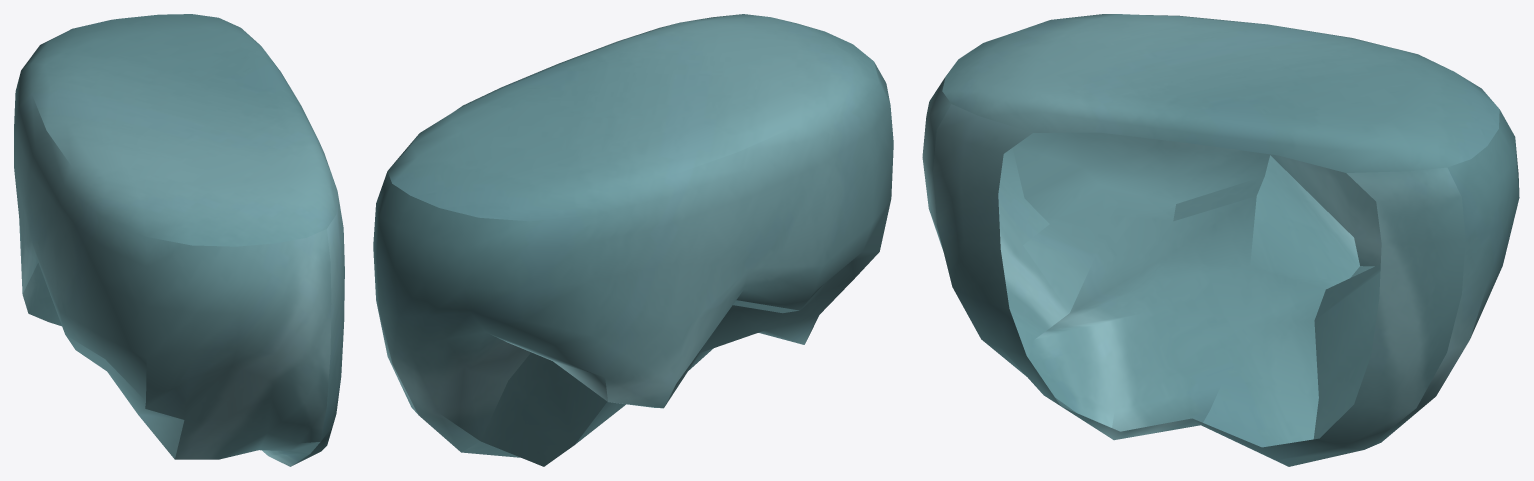
File: Ice_platform_1.fbx
3 views of the same model, side by side, from view 1: azimuth 30°, elevation 25°; view 2: azimuth 150°, elevation 25°; view 3: azimuth 270°, elevation 25° (orthographic). The views are drawn at different scales.
Visible parts, largest first — view 1: Ice_platform_1; view 2: Ice_platform_1; view 3: Ice_platform_1.
Boxes of the visible parts, left/top/right/bottom form: Ice_platform_1: left=14, top=14, right=344, bottom=466; Ice_platform_1: left=373, top=14, right=893, bottom=466; Ice_platform_1: left=922, top=14, right=1519, bottom=466.
Bounding box in the file's own units: 295 × 322 × 490.
